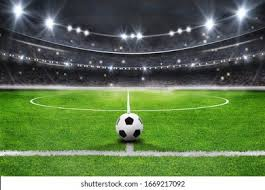football ball: (114, 112, 146, 139)
